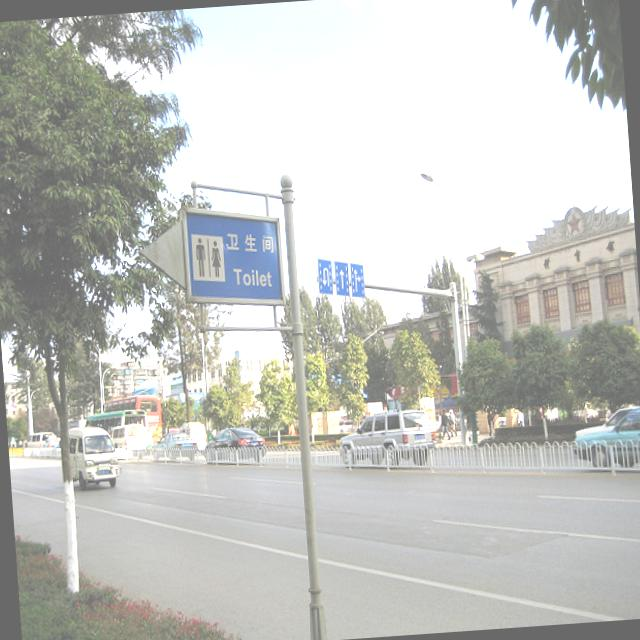Vehicle: (100, 386, 168, 450), (338, 409, 434, 453), (574, 407, 640, 470), (82, 407, 158, 457), (66, 420, 120, 489), (572, 403, 640, 438), (201, 424, 267, 451), (151, 430, 198, 462), (25, 432, 54, 448), (190, 423, 207, 442), (40, 436, 61, 448)
